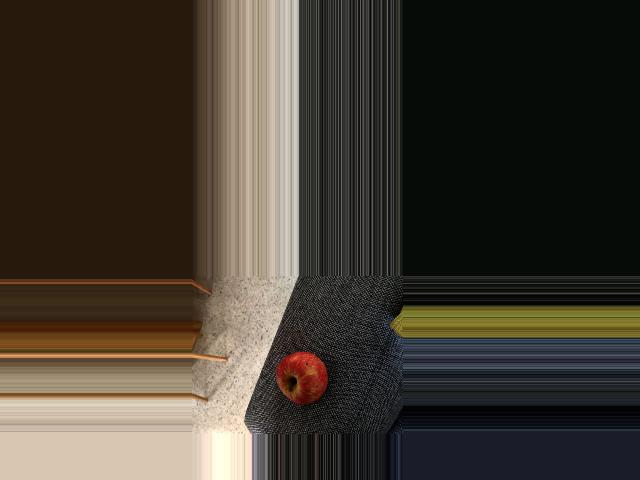apple: (273, 350, 332, 408)
